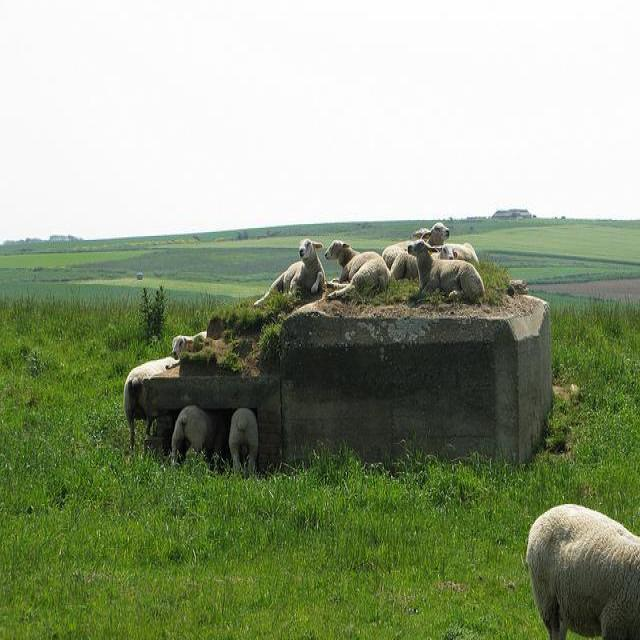Sheep: (529, 501, 639, 639), (122, 354, 180, 454), (408, 236, 488, 300), (255, 236, 325, 308), (171, 406, 228, 474), (325, 240, 390, 299), (382, 228, 430, 281)
